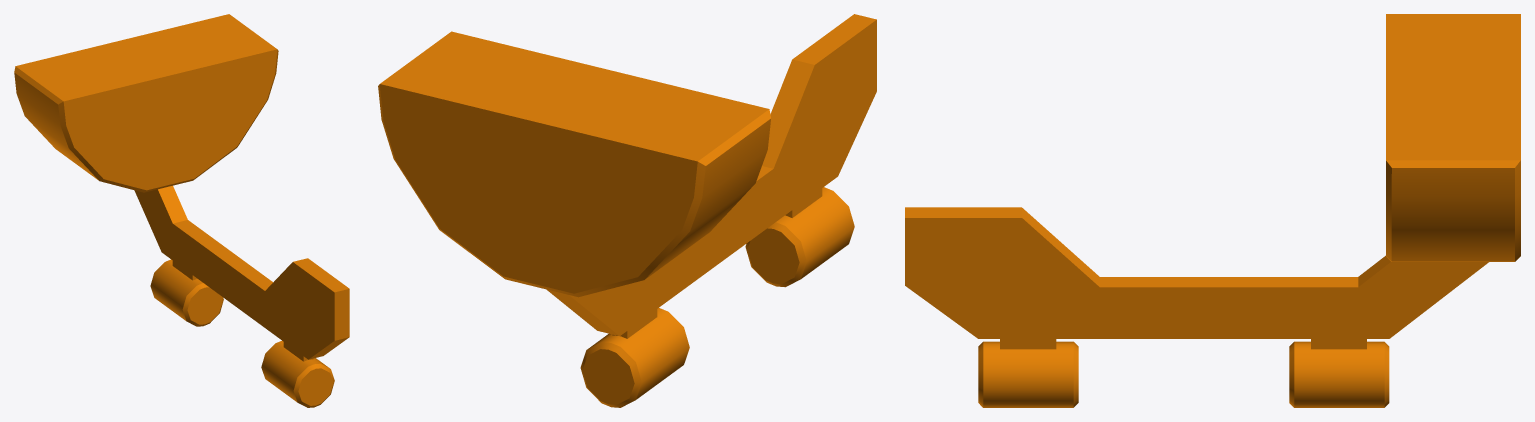
The model's file is env_building_tanksmallsupport_lod1.fbx.
3 renders of one model, left to right at view 1: azimuth 30°, elevation 25°; view 2: azimuth 150°, elevation 25°; view 3: azimuth 270°, elevation 25°, orthographic. The views are drawn at different scales.
Parts seen in each view (by area): view 1: Mesh4; view 2: Mesh4; view 3: Mesh4.
Part boxes in pixels (x1,y1,x2,y2): Mesh4: (14, 14, 349, 407); Mesh4: (378, 14, 876, 407); Mesh4: (905, 14, 1520, 407).
Bounding box in the file's own units: 90.33 × 88.87 × 156.
